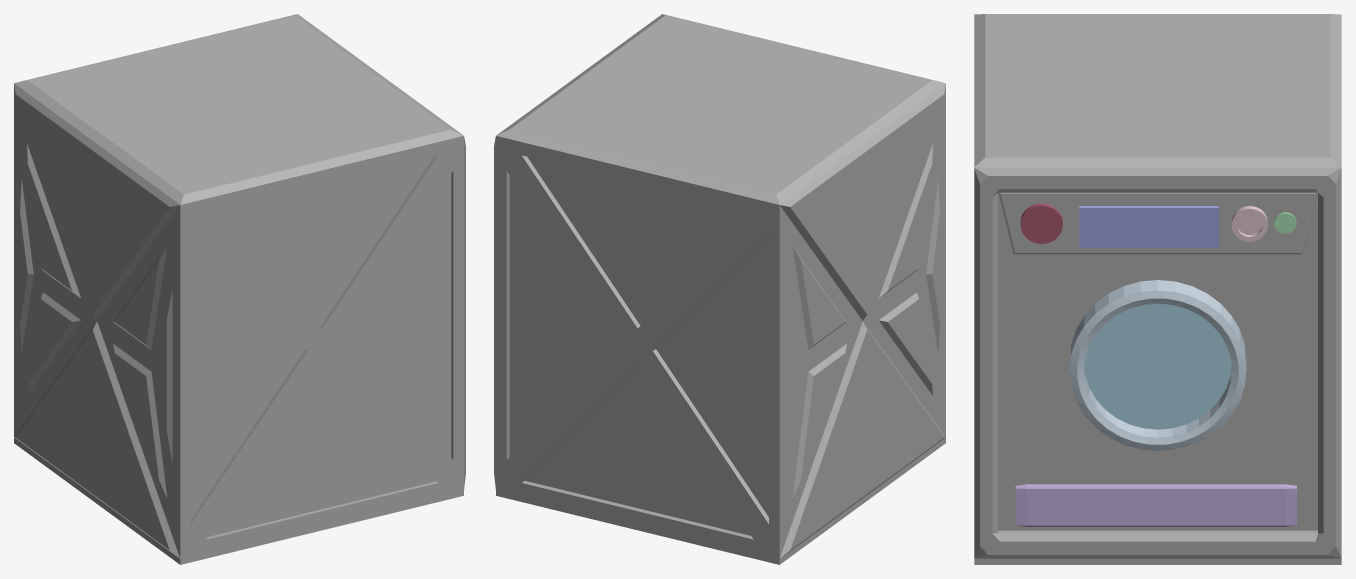
File: camasir.fbx
3 views of the same model, side by side, from view 1: azimuth 30°, elevation 25°; view 2: azimuth 150°, elevation 25°; view 3: azimuth 270°, elevation 25° (orthographic). The views are drawn at different scales.
Visible parts, largest first — view 1: Cube; view 2: Cube; view 3: Cube, Cylinder, Cube.002, Cube.001, Cylinder.003, Cylinder.002.
Boxes of the visible parts, <box> form: Cube: <box>14,14,465,564</box>; Cube: <box>494,14,945,564</box>; Cube: <box>974,14,1341,564</box>; Cylinder: <box>1069,280,1246,450</box>; Cube.002: <box>1015,484,1296,526</box>; Cube.001: <box>1079,206,1218,247</box>; Cylinder.003: <box>1020,203,1062,243</box>; Cylinder.002: <box>1231,206,1267,241</box>.
Size of the model in its own units: 211 by 242 by 200.
